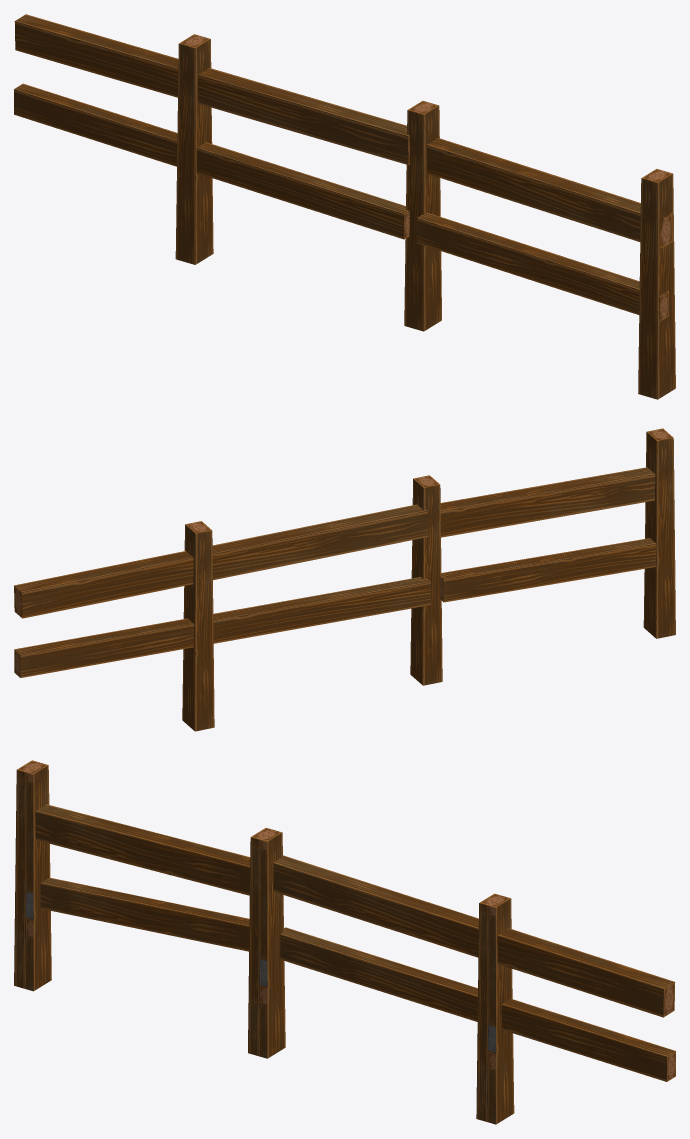
3 views of the same model, one above another, from view 1: azimuth 90°, elevation 25°; view 2: azimuth 150°, elevation 25°; view 3: azimuth 270°, elevation 25° (orthographic). The views are drawn at different scales.
Visible parts, largest first — view 1: Cube.021; view 2: Cube.021; view 3: Cube.021.
Part boxes in pixels (x1,y1,x2,y2): Cube.021: (14, 14, 675, 399); Cube.021: (14, 428, 675, 731); Cube.021: (14, 760, 675, 1124).
Size of the model in its own units: 298 by 150 by 417.
Materials: 1 (1 with a texture image).
